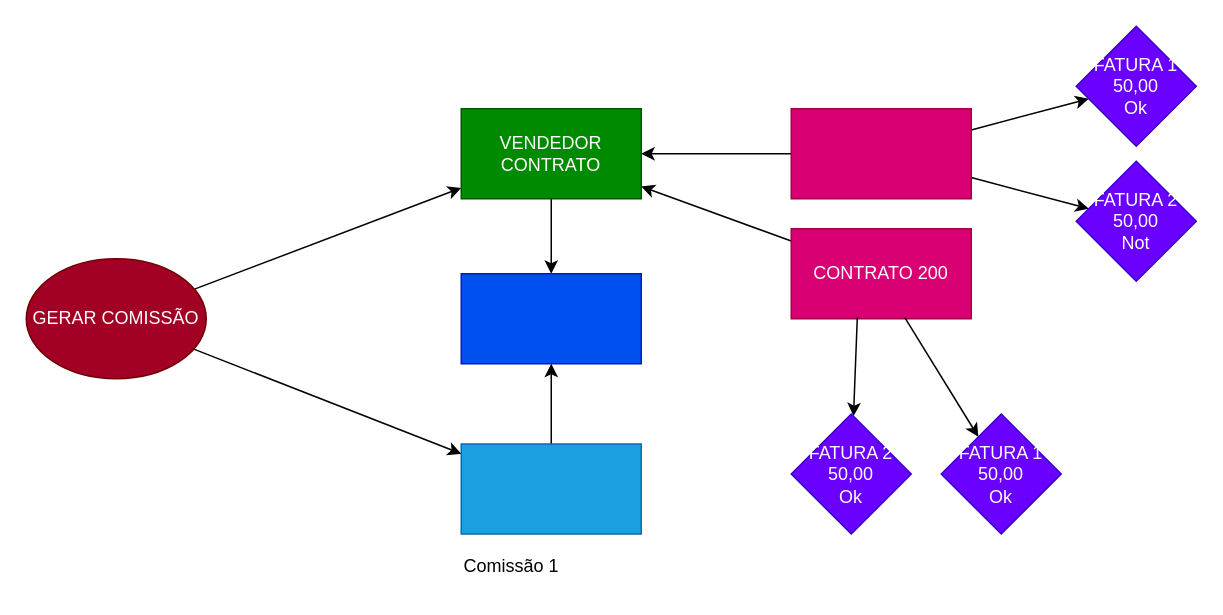
Image size: 1223x615. Some labels were removed from this diagram. The box of each missing label's shape, as (x1, y1, x2, y2) in pixels:
CONTRATO 100: (790, 107, 971, 199)
VENDEDOR: (460, 272, 641, 364)
VENDEDOR COMISSÃO: (460, 442, 641, 534)
